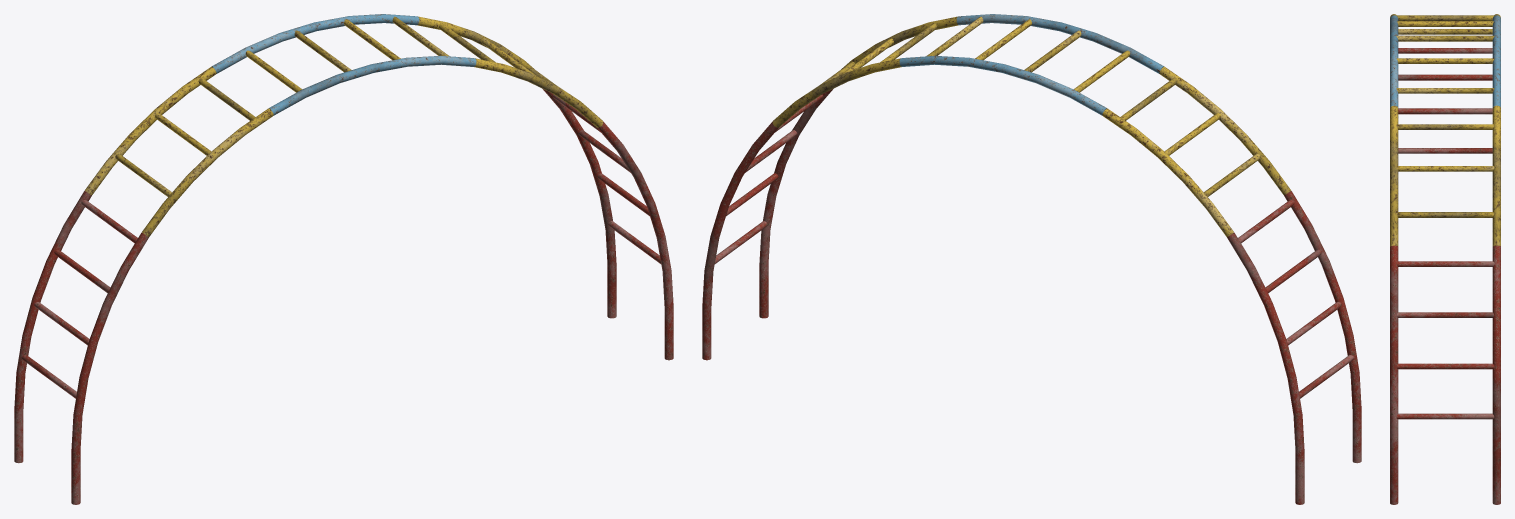
The model's file is playground_arch_ladder_web.glb.
The picture shows the model from 3 angles, left to right: view 1: azimuth 30°, elevation 25°; view 2: azimuth 150°, elevation 25°; view 3: azimuth 270°, elevation 25°; orthographic projection. The views are drawn at different scales.
Parts seen in each view (by area): view 1: ArchLadder_Mesh; view 2: ArchLadder_Mesh; view 3: ArchLadder_Mesh.
Boxes of the visible parts, x1=… form: ArchLadder_Mesh: x1=14, y1=14, x2=673, y2=504; ArchLadder_Mesh: x1=702, y1=14, x2=1361, y2=504; ArchLadder_Mesh: x1=1390, y1=14, x2=1500, y2=504.
Size of the model in its own units: 3.65 by 2.12 by 0.648.
Materials: 3 (3 with a texture image).
